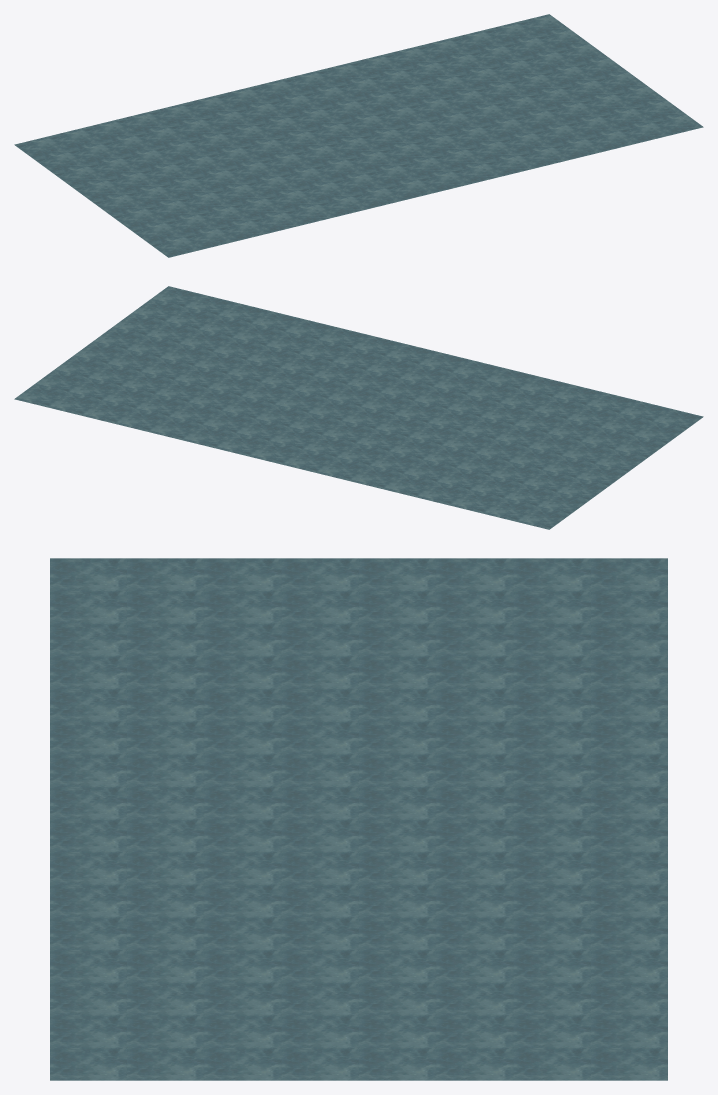
File: mesh_quingming_water.FBX
3 views of the same model, one above another, from view 1: azimuth 30°, elevation 25°; view 2: azimuth 150°, elevation 25°; view 3: azimuth 270°, elevation 25° (orthographic). The views are drawn at different scales.
Visible parts, largest first — view 1: mesh_quingming_water; view 2: mesh_quingming_water; view 3: mesh_quingming_water.
Part boxes in pixels (<box>): mesh_quingming_water: <box>14,14,703,257</box>; mesh_quingming_water: <box>14,286,703,529</box>; mesh_quingming_water: <box>50,558,667,1080</box>.
Bounding box in the file's own units: 208 × 4.78e-05 × 104.
